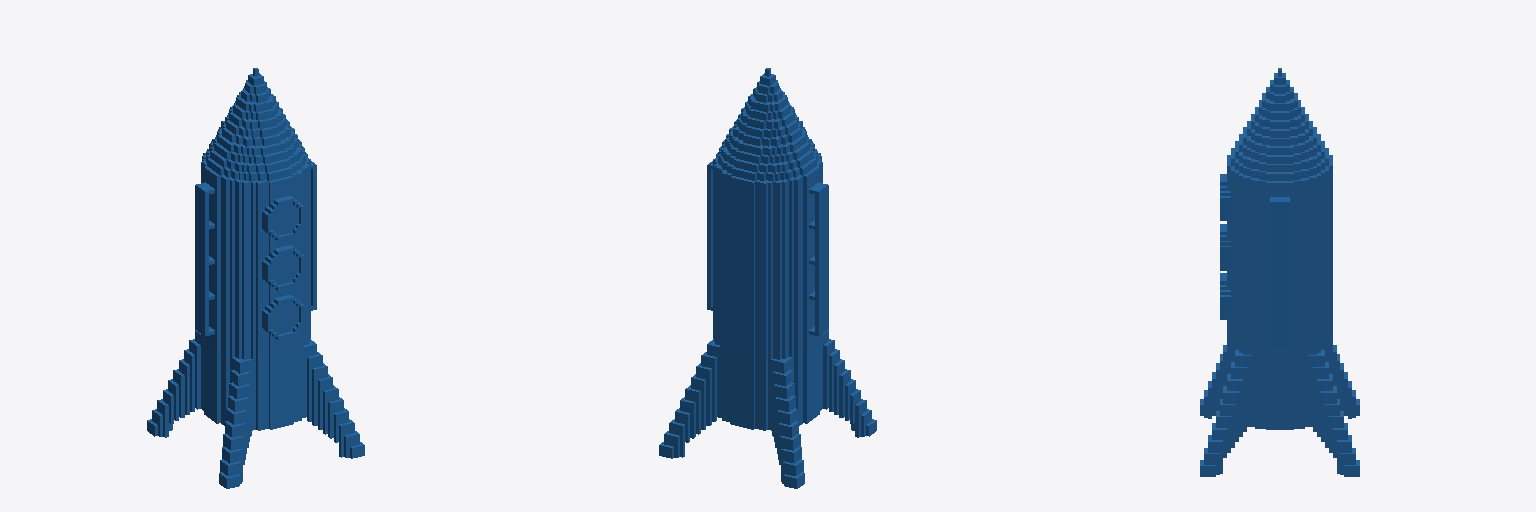
The picture shows the model from 3 angles: view 1: azimuth 30°, elevation 25°; view 2: azimuth 150°, elevation 25°; view 3: azimuth 270°, elevation 25°; orthographic projection.
Parts seen in each view (by area): view 1: object 1; view 2: object 1; view 3: object 1.
Part boxes in pixels (bbox=[...]): object 1: bbox=[147, 68, 364, 488]; object 1: bbox=[659, 68, 876, 488]; object 1: bbox=[1200, 68, 1359, 476].
Bounding box in the file's own units: 4.1 × 10.6 × 4.1.
1 materials, 1 textured.